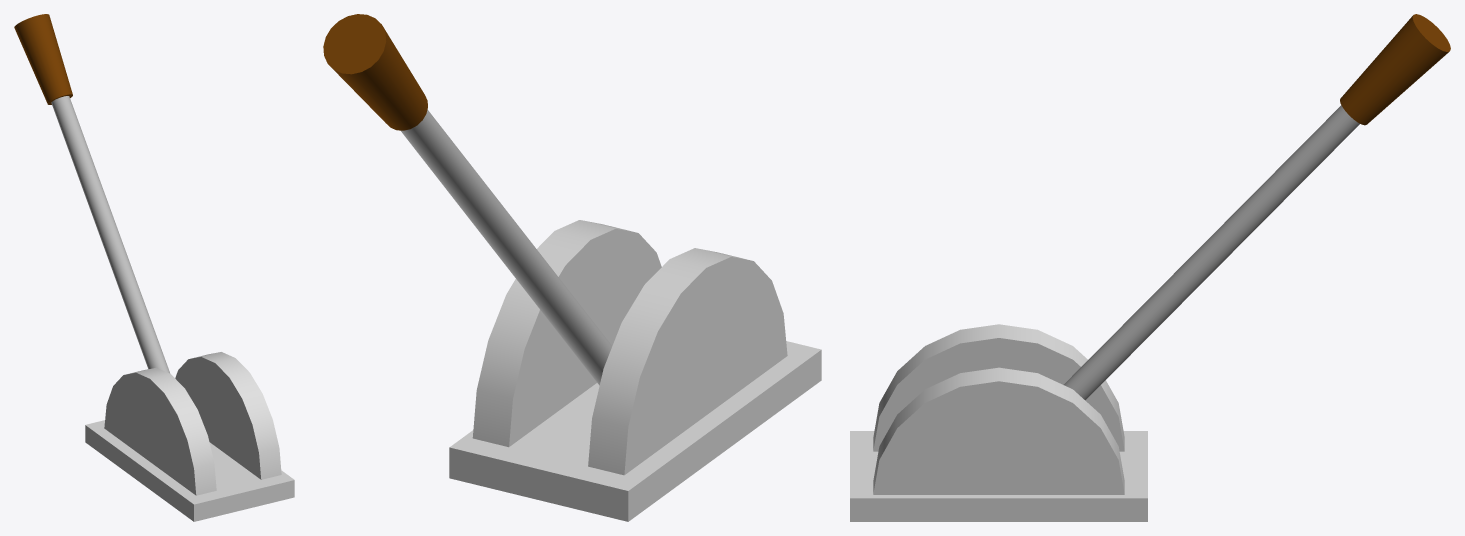
File: Levier01_Animation.fbx
The picture shows the model from 3 angles, left to right: view 1: azimuth 30°, elevation 25°; view 2: azimuth 150°, elevation 25°; view 3: azimuth 270°, elevation 25°; orthographic projection. The views are drawn at different scales.
Visible parts, largest first — view 1: Base_Geo, Levier_Geo; view 2: Base_Geo, Levier_Geo; view 3: Base_Geo, Levier_Geo.
Boxes of the visible parts, x1,y1,x2,y2 form: Base_Geo: [85, 352, 294, 521]; Levier_Geo: [14, 14, 170, 373]; Base_Geo: [449, 220, 821, 521]; Levier_Geo: [323, 14, 612, 385]; Base_Geo: [850, 324, 1147, 521]; Levier_Geo: [1064, 14, 1450, 400].
Bounding box in the file's own units: 6.06 × 19.77 × 22.86.
